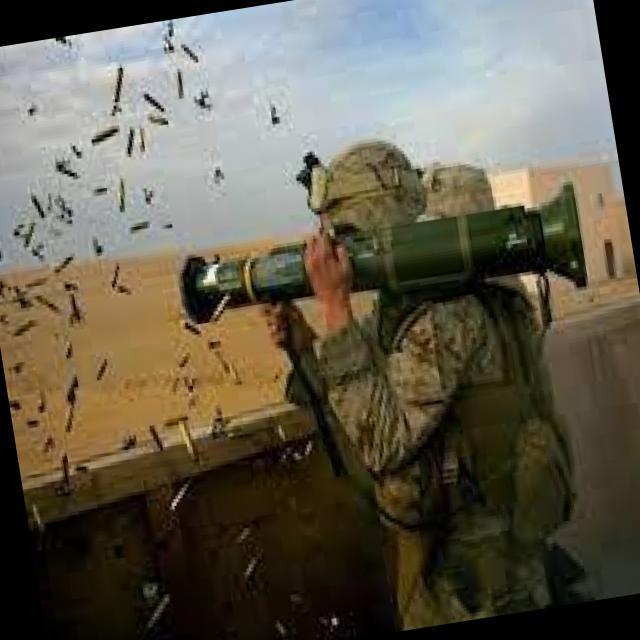rocket: (165, 176, 602, 344)
